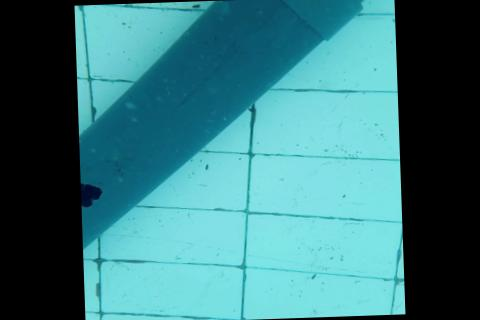kebocoran: (80, 179, 103, 208)
